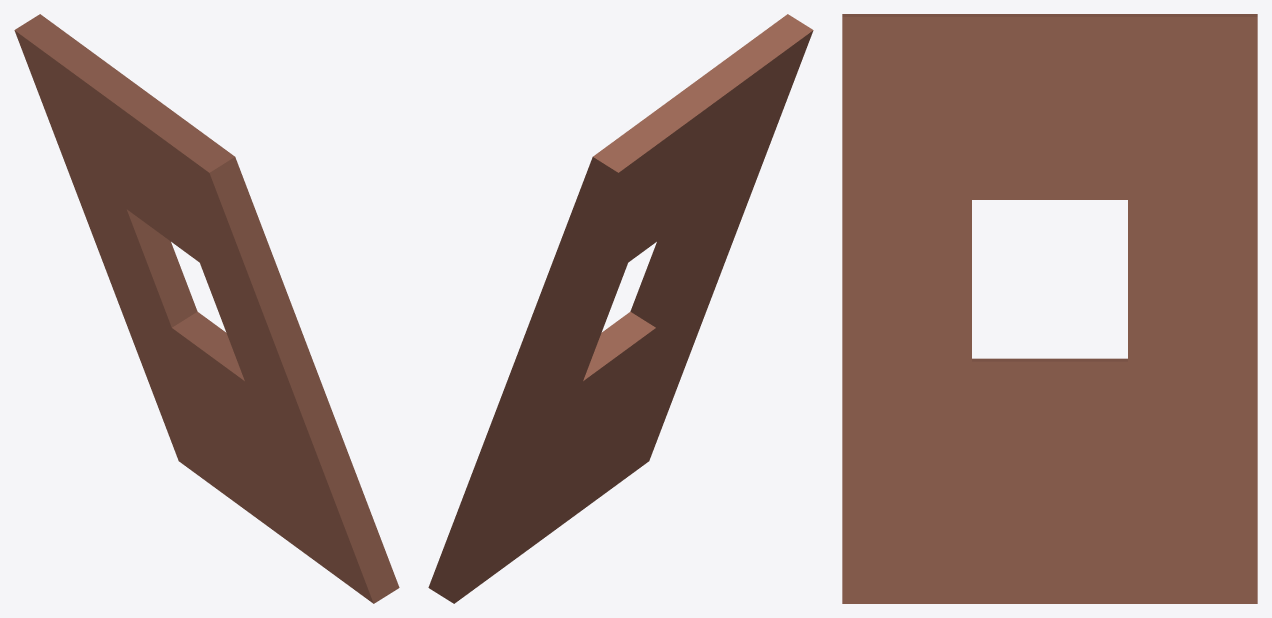
File: SARM_SAR_Building_URB_003_Wall_E_01.glb
3 views of the same model, side by side, from view 1: azimuth 30°, elevation 25°; view 2: azimuth 150°, elevation 25°; view 3: azimuth 270°, elevation 25° (orthographic). The views are drawn at different scales.
Visible parts, largest first — view 1: SAR_Building_URB_003_Wall_E_01.001; view 2: SAR_Building_URB_003_Wall_E_01.001; view 3: SAR_Building_URB_003_Wall_E_01.001.
Part boxes in pixels (x1,y1,x2,y2): SAR_Building_URB_003_Wall_E_01.001: (14, 14, 399, 603); SAR_Building_URB_003_Wall_E_01.001: (428, 14, 813, 603); SAR_Building_URB_003_Wall_E_01.001: (842, 14, 1257, 603).
Bounding box in the file's own units: 1.8 × 4.35 × 3.2.
